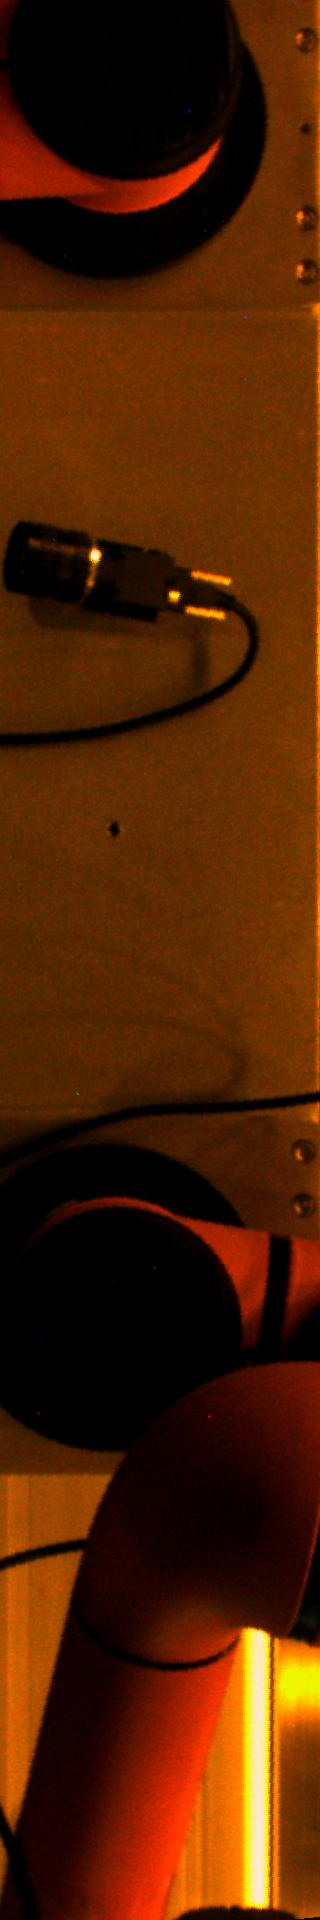keyPoint_2: (98, 816, 128, 845)
